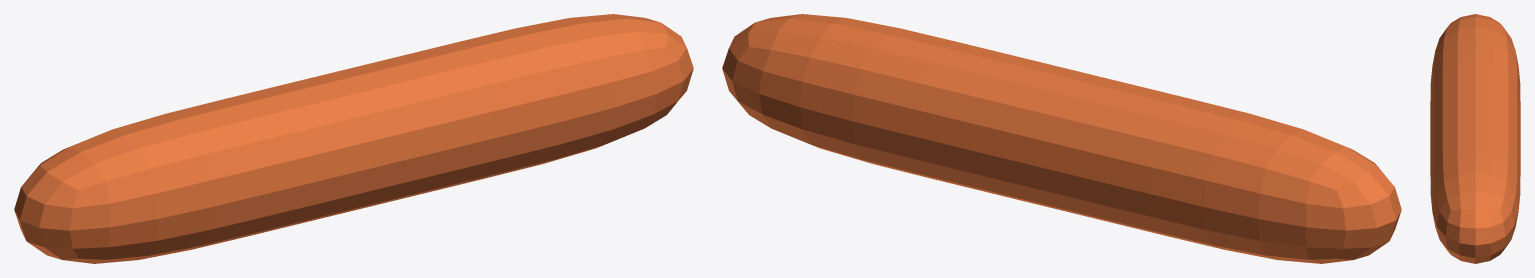
The model's file is breadstick.fbx.
3 views of the same model, side by side, from view 1: azimuth 30°, elevation 25°; view 2: azimuth 150°, elevation 25°; view 3: azimuth 270°, elevation 25° (orthographic). The views are drawn at different scales.
Parts seen in each view (by area): view 1: breadstick; view 2: breadstick; view 3: breadstick.
Boxes of the visible parts, x1,y1,x2,y2 form: breadstick: [14, 14, 693, 263]; breadstick: [722, 14, 1401, 263]; breadstick: [1430, 14, 1520, 263].
Bounding box in the file's own units: 189 × 33.8 × 33.8.
